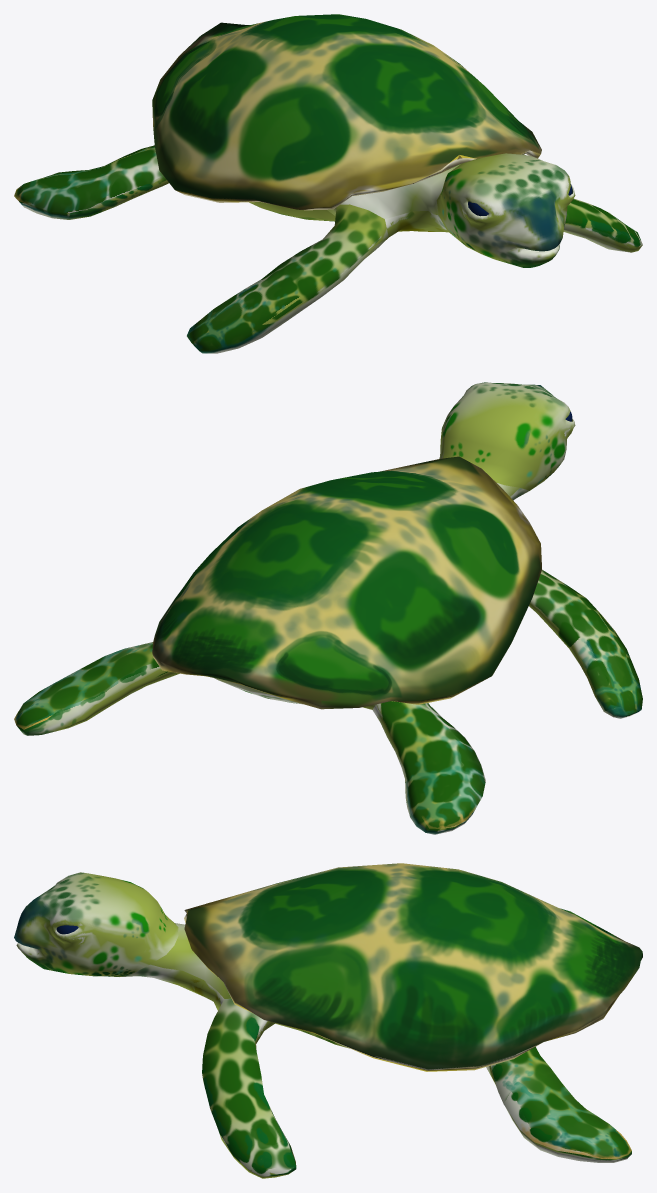
Rendered from tortuga-texturizado-proyecto.glb.
3 views of the same model, one above another, from view 1: azimuth 30°, elevation 25°; view 2: azimuth 150°, elevation 25°; view 3: azimuth 270°, elevation 25° (orthographic). The views are drawn at different scales.
Parts seen in each view (by area): view 1: Object_3, Object_2; view 2: Object_3, Object_2; view 3: Object_3, Object_2.
Part boxes in pixels (box(x1,y1,x2,y2)): Object_3: box(152, 14, 541, 210); Object_2: box(14, 145, 642, 353); Object_3: box(152, 456, 541, 709); Object_2: box(14, 382, 642, 834); Object_3: box(184, 863, 642, 1071); Object_2: box(14, 872, 631, 1178).
Size of the model in its own units: 5.77 by 2.57 by 7.36.
3 materials, 2 textured.
